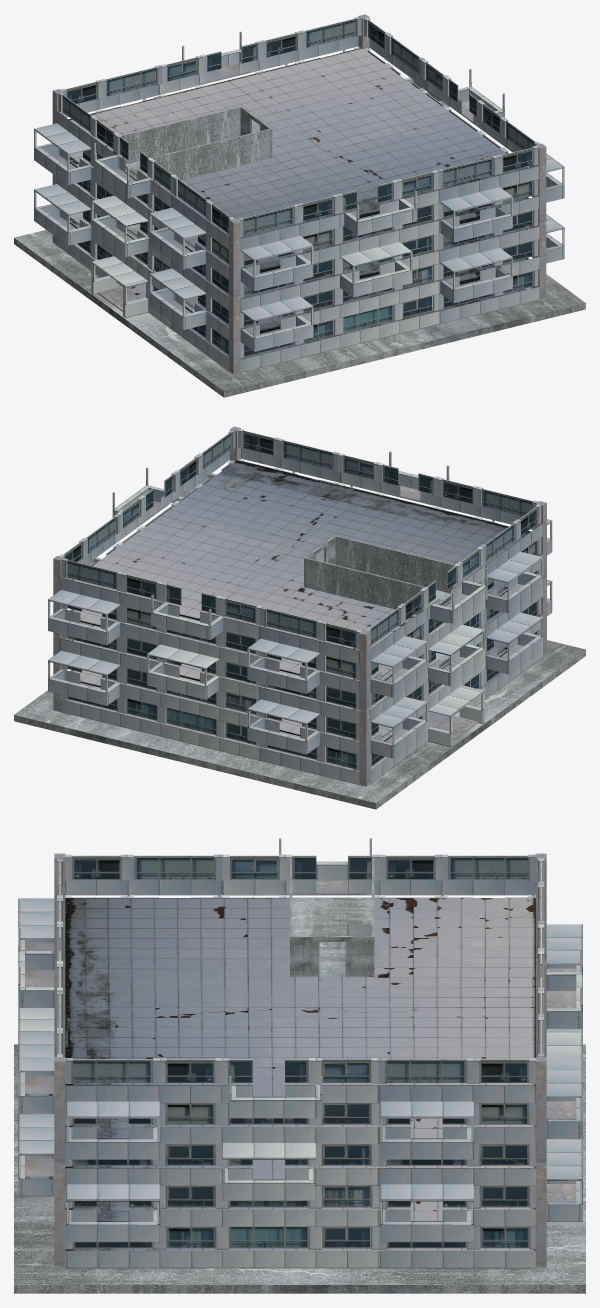
File: BagSS06base_500.fbx
3 views of the same model, one above another, from view 1: azimuth 30°, elevation 25°; view 2: azimuth 150°, elevation 25°; view 3: azimuth 270°, elevation 25° (orthographic). The views are drawn at different scales.
Visible parts, largest first — view 1: basemain300, baseFloors300, baseBase300, baseWalls300, basebeams300, basebalc300; view 2: basemain300, baseFloors300, baseBase300, baseWalls300, basebeams300, basebalc300; view 3: basemain300, baseFloors300, baseBase300, basebalc300, baseWalls300, basebeams300.
Part boxes in pixels (<box>): basemain300: <box>34,16,564,372</box>; baseFloors300: <box>69,48,526,359</box>; baseBase300: <box>14,230,585,397</box>; baseWalls300: <box>122,106,272,291</box>; basebeams300: <box>52,91,546,374</box>; basebalc300: <box>53,14,545,314</box>; basemain300: <box>48,429,552,784</box>; baseFloors300: <box>73,460,530,771</box>; baseBase300: <box>14,640,585,809</box>; baseWalls300: <box>304,535,453,719</box>; basebeams300: <box>53,503,546,786</box>; basebalc300: <box>54,426,546,742</box>; basemain300: <box>18,838,582,1268</box>; baseFloors300: <box>65,898,535,1250</box>; baseBase300: <box>14,1044,585,1293</box>; basebalc300: <box>25,853,576,1201</box>; baseWalls300: <box>290,858,374,976</box>; basebeams300: <box>54,1061,546,1268</box>.
Size of the model in its own units: 46.45 by 19.39 by 46.65.
